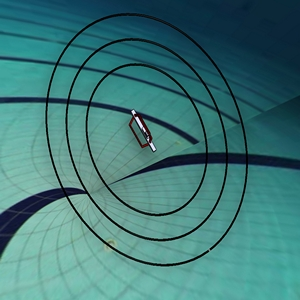circle: (32, 4, 282, 276)
submarine: (112, 99, 169, 166)
